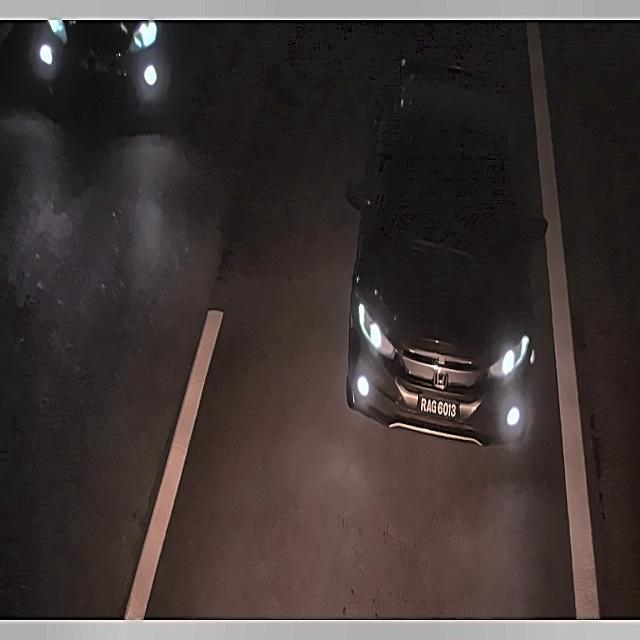car: (407, 394, 464, 423), (76, 48, 118, 85)
